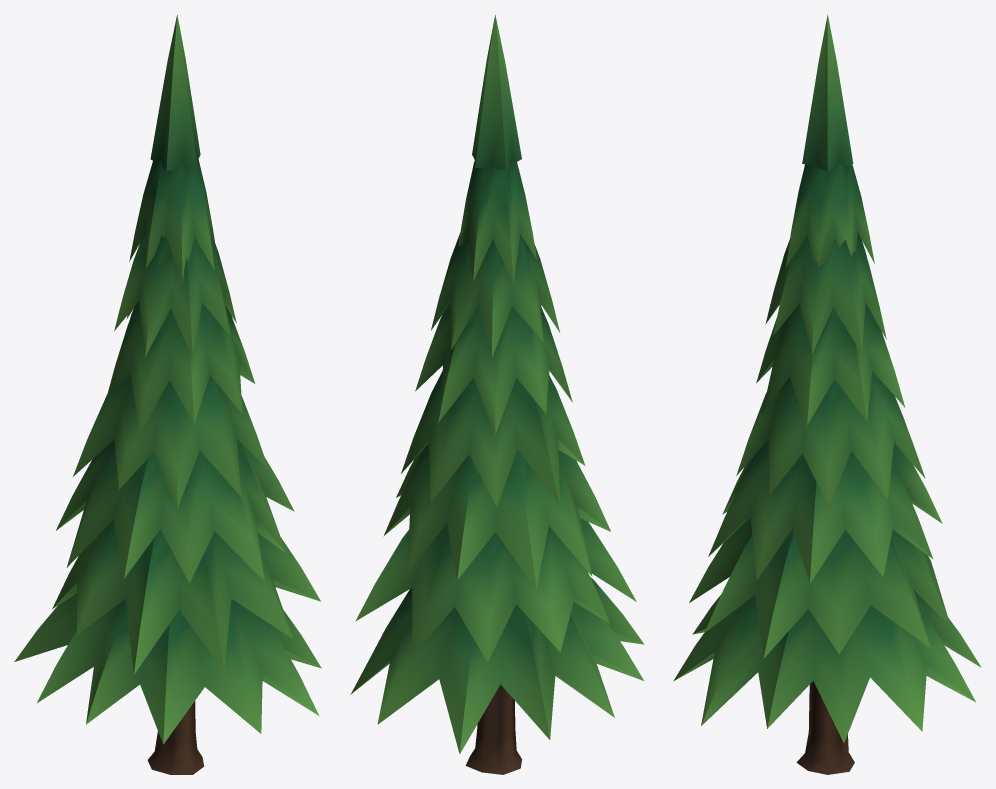
File: alpine_pine_tall.glb
The picture shows the model from 3 angles, left to right: view 1: azimuth 30°, elevation 25°; view 2: azimuth 150°, elevation 25°; view 3: azimuth 270°, elevation 25°; orthographic projection.
Visible parts, largest first — view 1: alpine_pine_tall; view 2: alpine_pine_tall; view 3: alpine_pine_tall.
Boxes of the visible parts, x1,y1,x2,y2 form: alpine_pine_tall: (14, 15, 321, 774); alpine_pine_tall: (350, 15, 644, 774); alpine_pine_tall: (673, 14, 981, 774).
Size of the model in its own units: 3.84 by 11 by 4.11.
